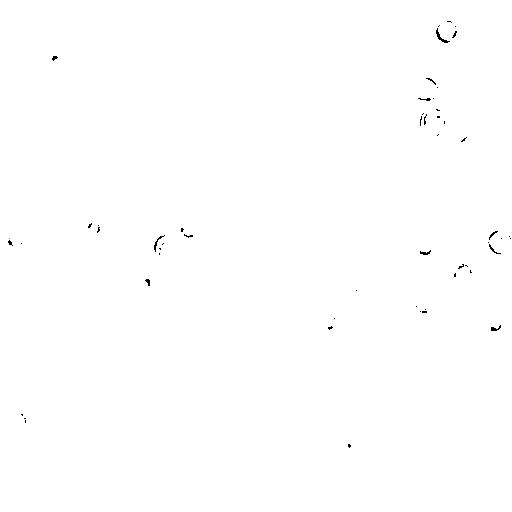micro-algae: (60, 111, 166, 215), (361, 39, 443, 123), (43, 69, 121, 149), (229, 0, 313, 67), (425, 75, 487, 137), (319, 485, 404, 511), (79, 262, 123, 303), (220, 245, 264, 285), (144, 134, 179, 169), (149, 231, 185, 265), (392, 278, 424, 313), (241, 400, 273, 434), (417, 107, 450, 139), (231, 1, 266, 29), (41, 47, 72, 77), (335, 428, 364, 457), (140, 254, 170, 279), (212, 139, 243, 163), (414, 75, 441, 101), (488, 228, 512, 255), (487, 109, 510, 137), (433, 19, 459, 43), (309, 14, 336, 37), (455, 132, 483, 154), (232, 129, 257, 153), (450, 463, 474, 487), (451, 263, 475, 287), (457, 60, 480, 85), (176, 220, 203, 241), (176, 171, 199, 194), (412, 294, 437, 315), (206, 407, 226, 432), (0, 148, 10, 188), (483, 314, 505, 332), (353, 6, 371, 27), (6, 229, 27, 247), (46, 280, 67, 298), (319, 310, 337, 331), (9, 411, 27, 431), (257, 223, 277, 241), (417, 239, 435, 257), (133, 277, 153, 292), (85, 220, 104, 235), (254, 245, 272, 260), (344, 281, 360, 297)
